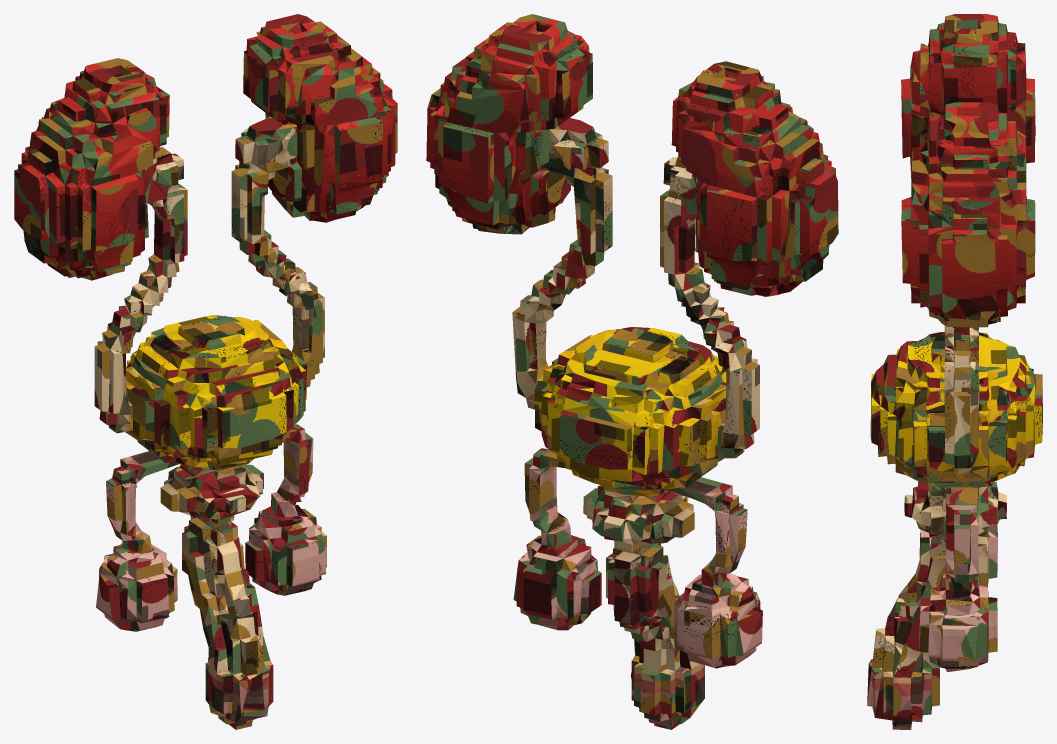
The picture shows the model from 3 angles, left to right: view 1: azimuth 30°, elevation 25°; view 2: azimuth 150°, elevation 25°; view 3: azimuth 270°, elevation 25°; orthographic projection. The views are drawn at different scales.
Parts seen in each view (by area): view 1: node_0; view 2: node_0; view 3: node_0.
Boxes of the visible parts, x1,y1,x2,y2 form: node_0: (14,14,397,729); node_0: (426,14,838,729); node_0: (867,14,1042,729).
Bounding box in the file's own units: 0.6474 × 1.13 × 0.2729.
1 material, 1 textured.
